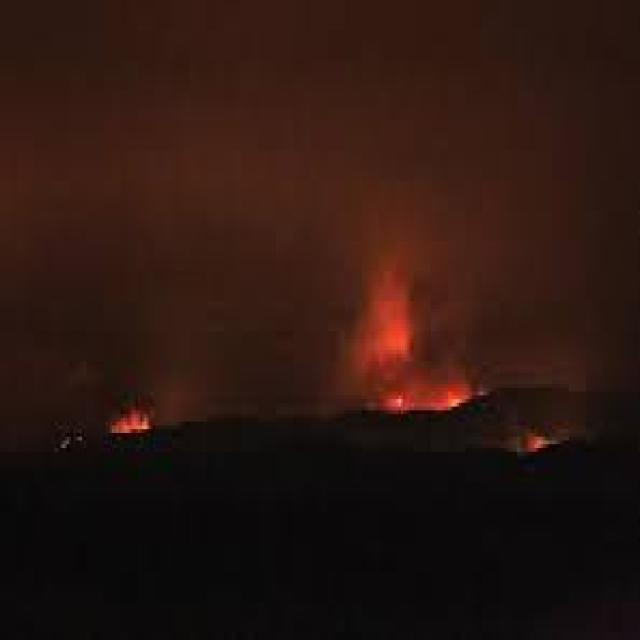Smoke: (0, 2, 640, 444)
